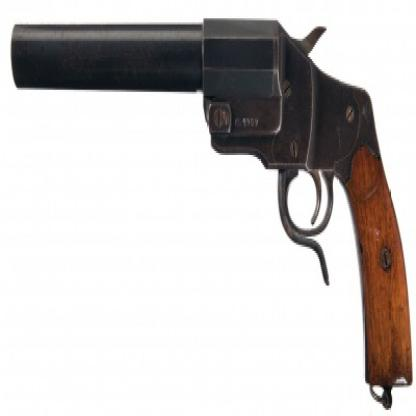Guns: (8, 14, 415, 414)
